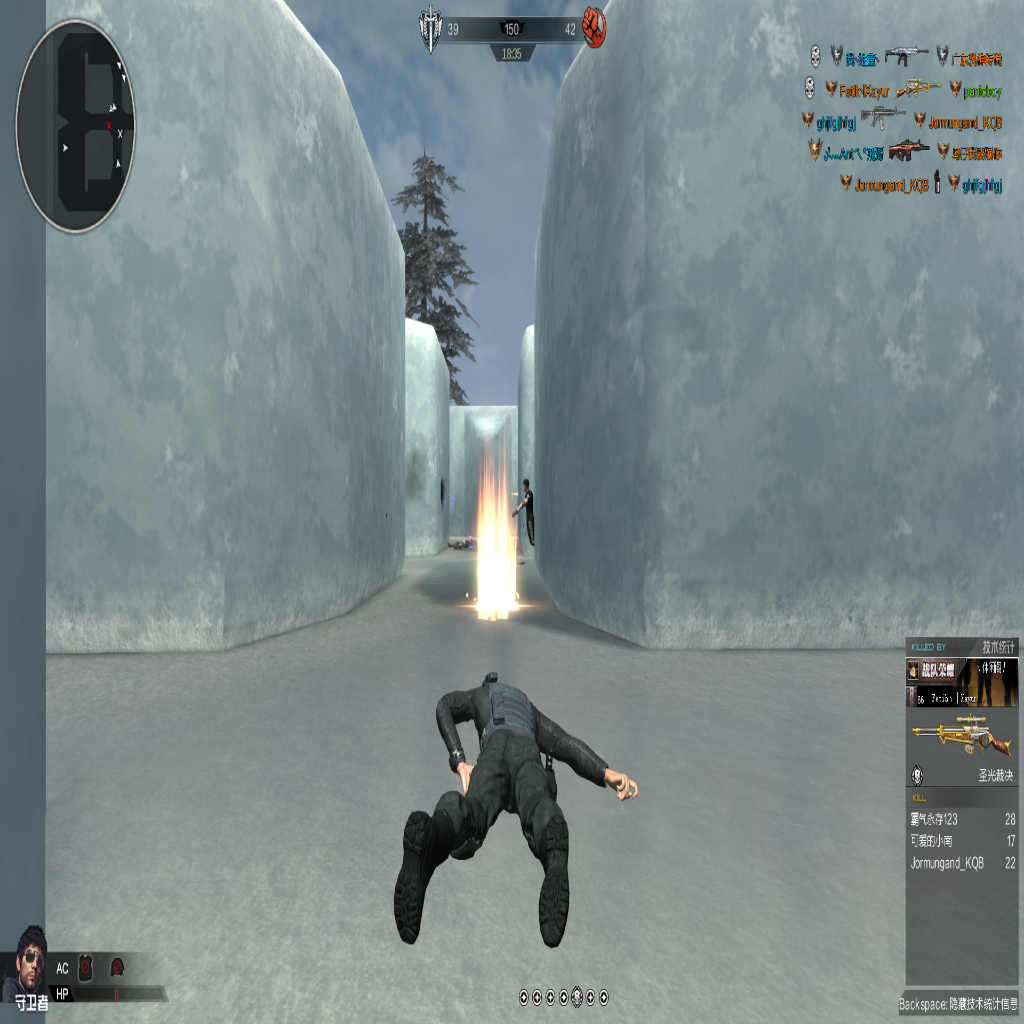ct: (513, 476, 535, 554)
